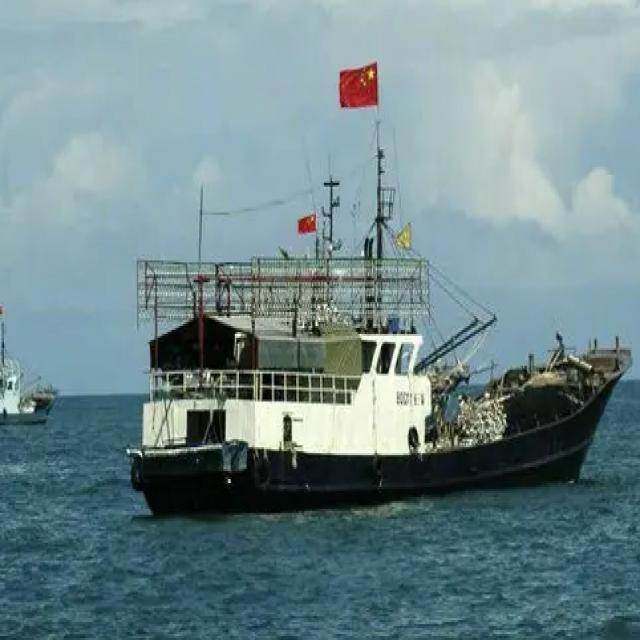fishing boat: (128, 217, 634, 516)
